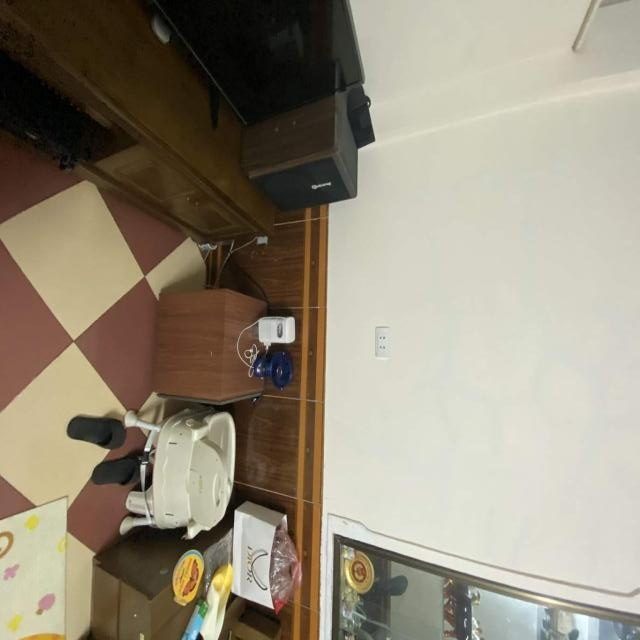outlet: (375, 326, 391, 359)
